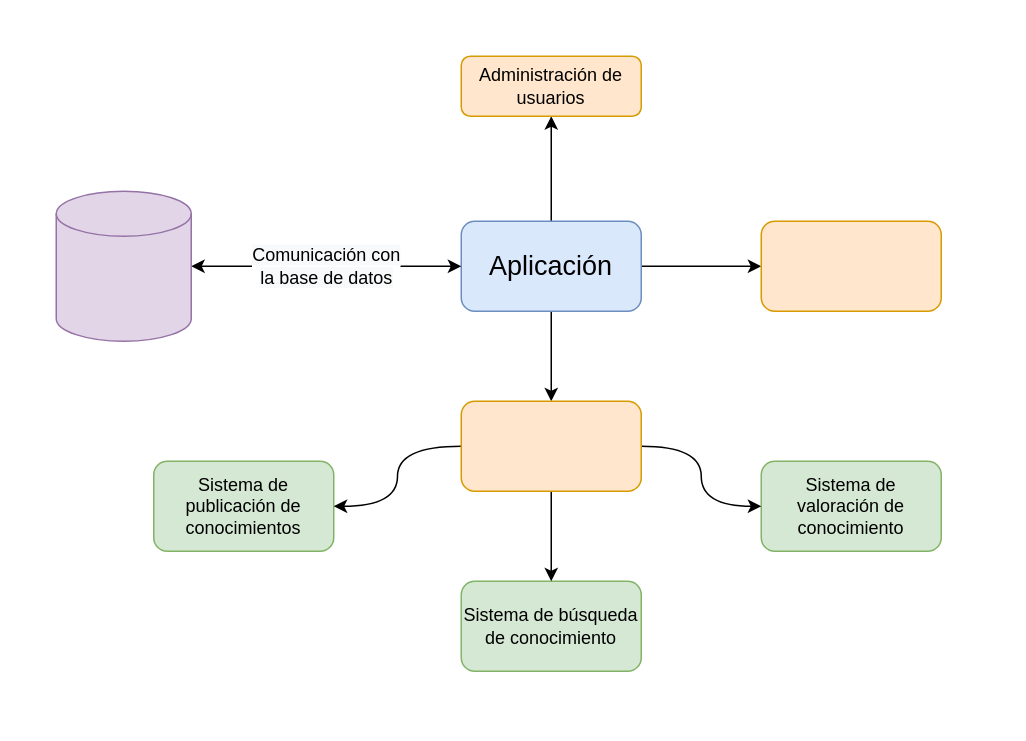
This 1026x741 diagram has some shape labels left out. Here are the shapes that lost their labels. From the top down, the centre of each, then its label:
(x=123, y=265): Manejo de datos de los empleados/ archivos
(x=850, y=265): Diseño e implementación de interfaces
(x=550, y=445): Componentes essenciales
